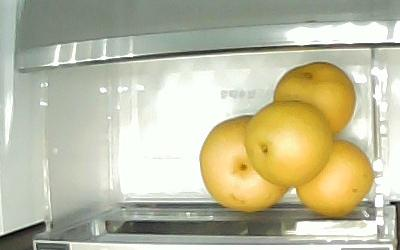pear: (198, 113, 290, 212), (243, 99, 333, 187), (272, 60, 356, 136), (294, 138, 373, 218)
